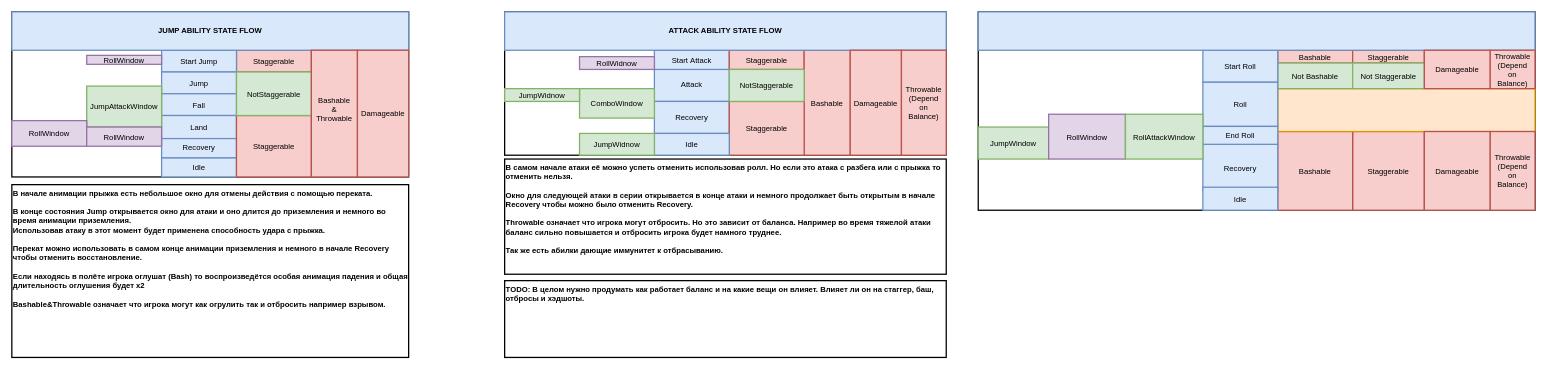
Image size: 1546x369. Some labels were removed from this diagram. The box of each missing label's shape, as (x1, y1, x2, y2) in pixels:
Invincible Frames: (1277, 88, 1535, 132)
ROLL ABILITY STATE FLOW: (977, 11, 1535, 51)
